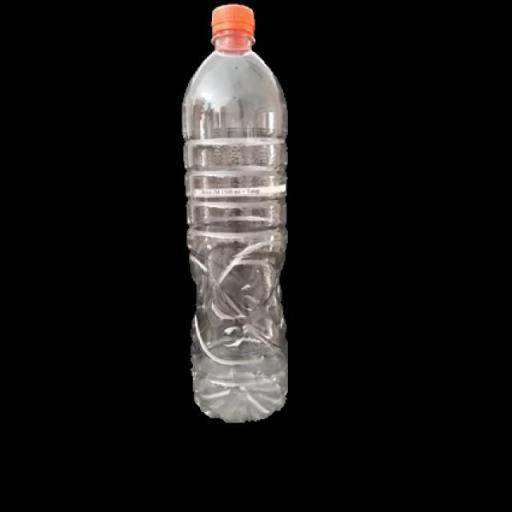plastic: (180, 1, 293, 424)
